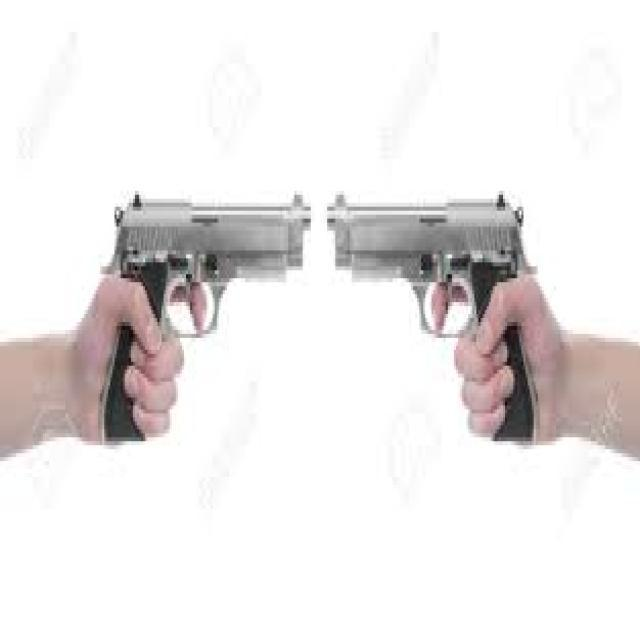weapon: (94, 182, 540, 450)
